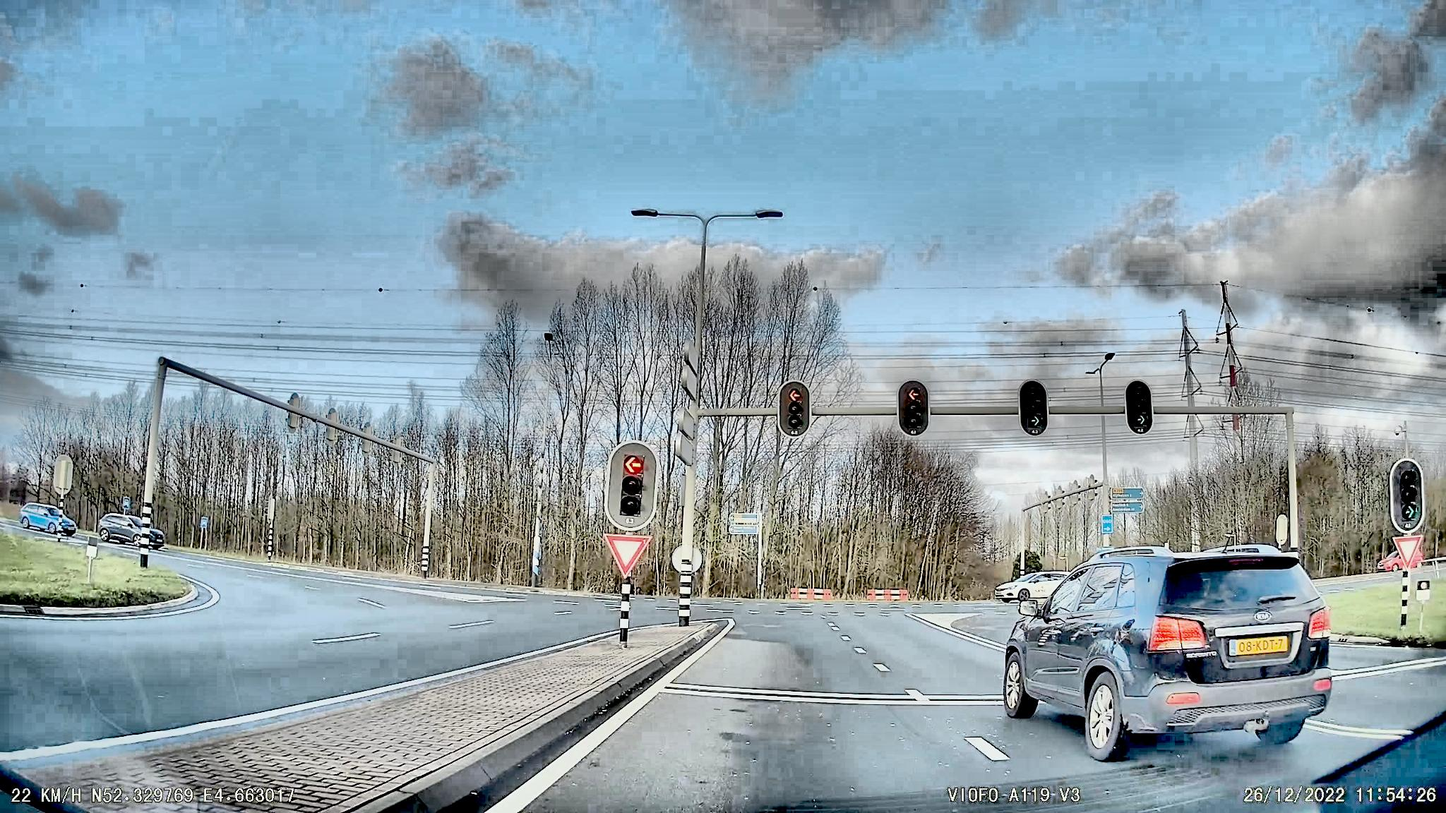Roads: (0, 564, 1446, 813)
